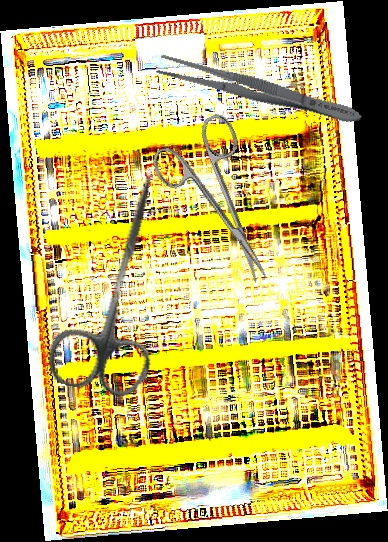Dressing Forceps: (153, 49, 366, 132)
Iris Scissors: (41, 161, 197, 404), (144, 110, 299, 301)
